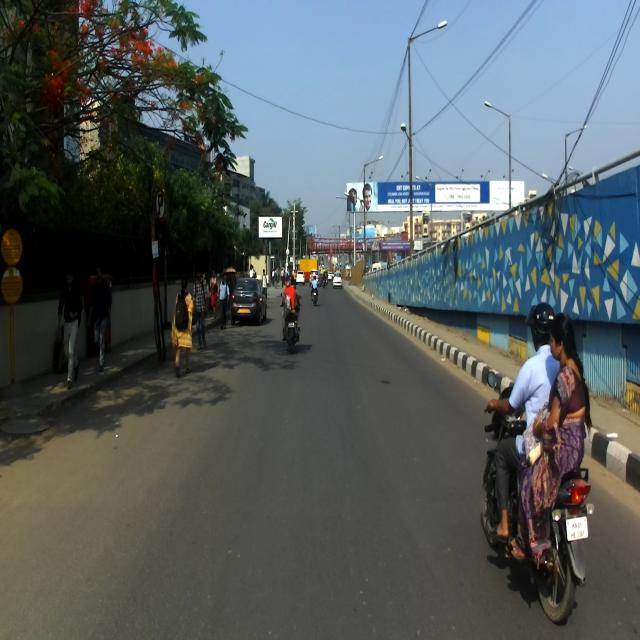motorcycle ahead at: (483, 478, 594, 620)
